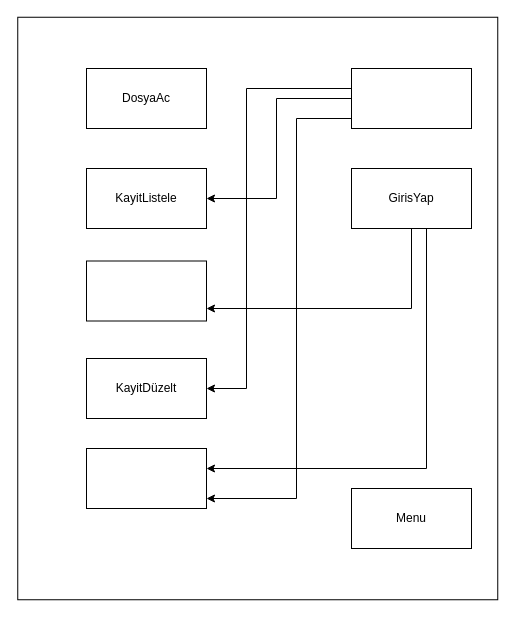
This 515x618 diagram has some shape labels left out. The box of each missing label's shape, as (x1, y1, x2, y2) in pixels:
KayitEkle: (86, 260, 206, 321)
KayitSil: (86, 448, 206, 508)
Listeleme: (350, 68, 472, 128)
